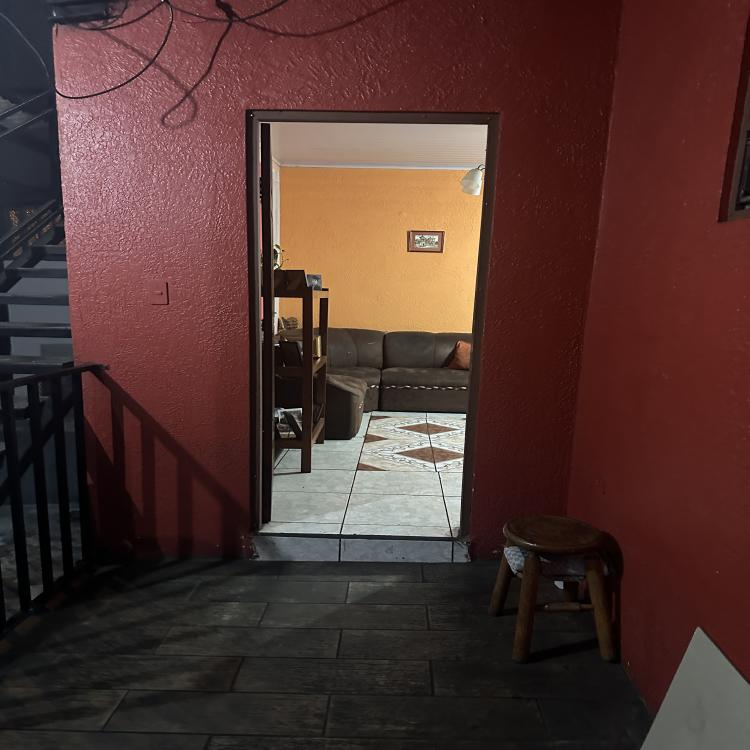OpenDoor: (233, 98, 504, 557)
